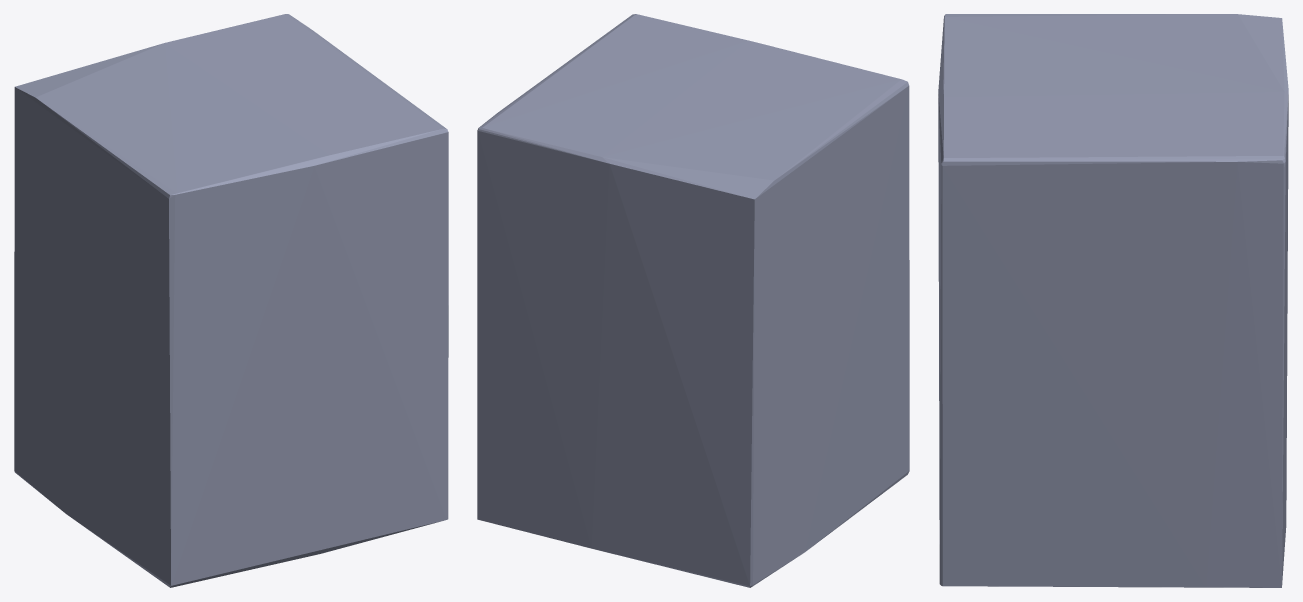
The model's file is box_printer_a08.glb.
The picture shows the model from 3 angles, left to right: view 1: azimuth 30°, elevation 25°; view 2: azimuth 150°, elevation 25°; view 3: azimuth 270°, elevation 25°; orthographic projection. The views are drawn at different scales.
Parts seen in each view (by area): view 1: geometry_0; view 2: geometry_0; view 3: geometry_0.
Boxes of the visible parts, x1=… form: geometry_0: x1=14, y1=14, x2=448, y2=587; geometry_0: x1=477, y1=14, x2=909, y2=587; geometry_0: x1=938, y1=14, x2=1288, y2=587.
Size of the model in its own units: 0.3515 by 0.4791 by 0.3519.
